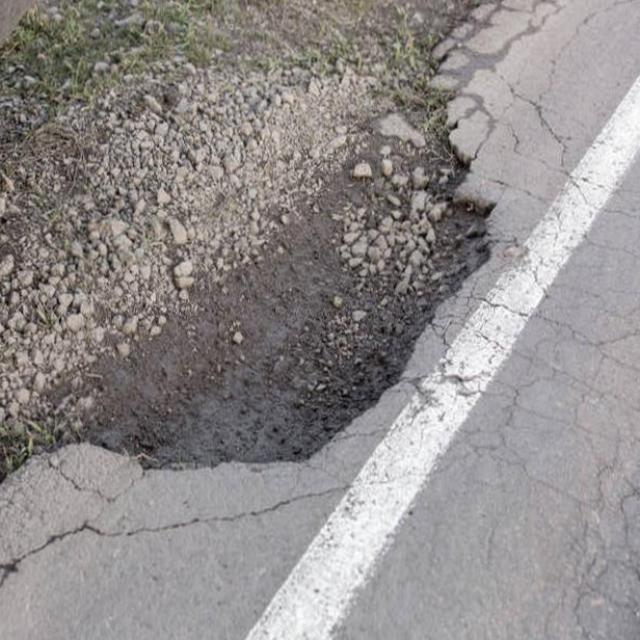Pinggir: (34, 40, 505, 487)
